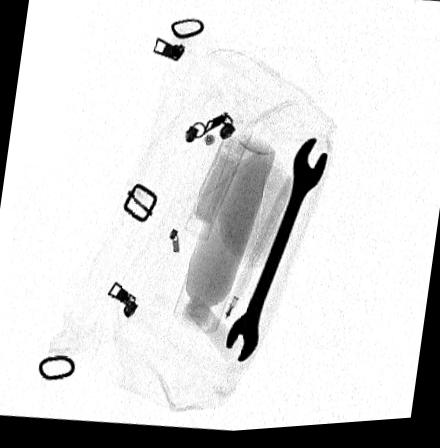Wrench: (222, 142, 326, 364)
